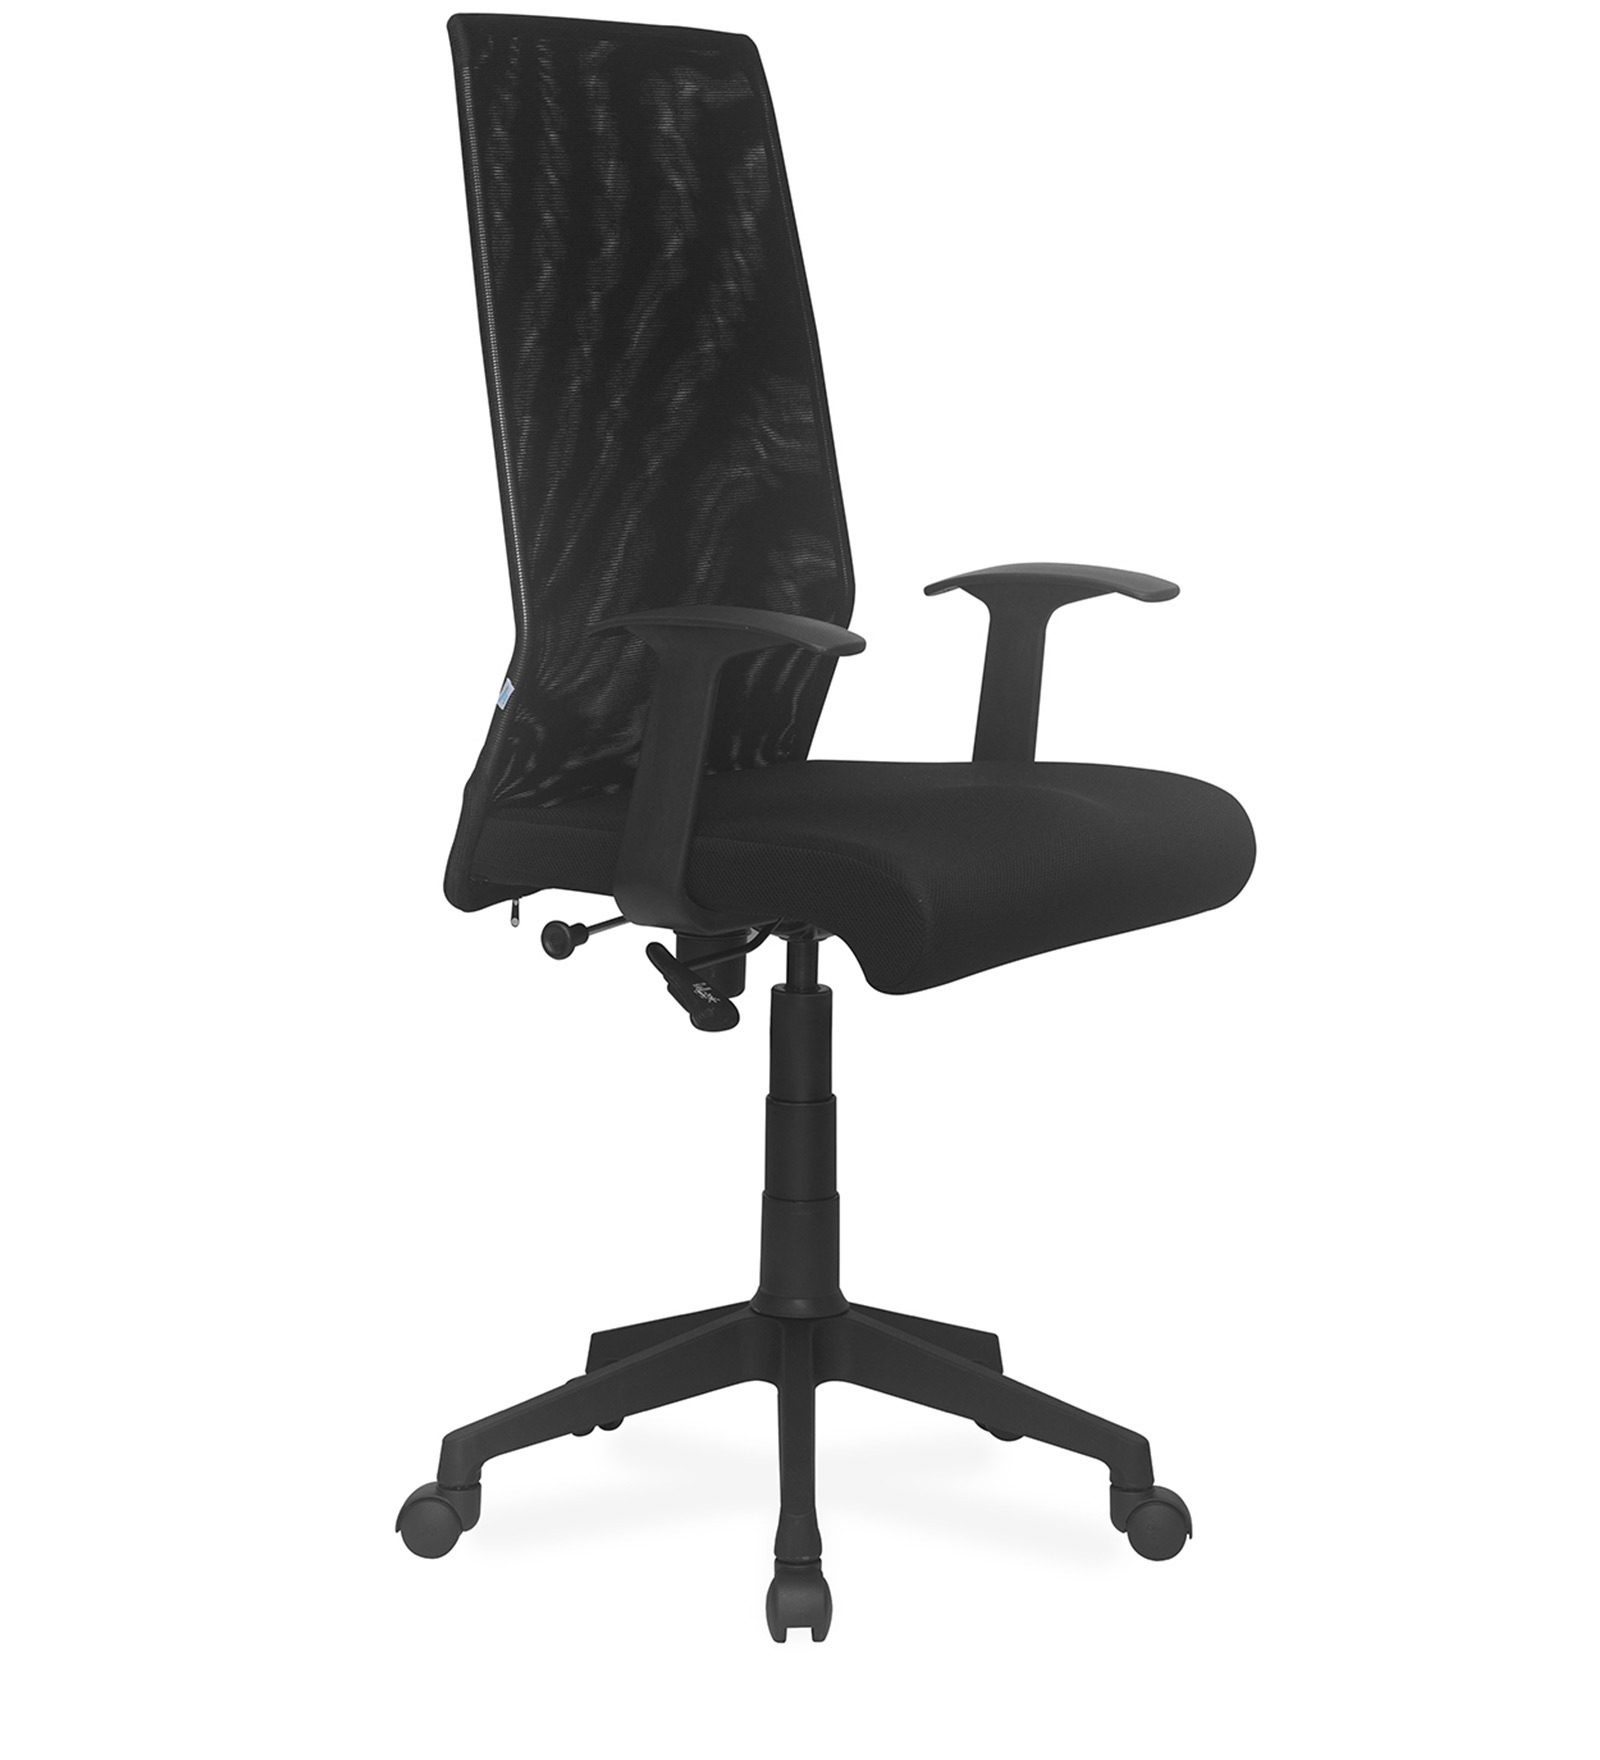Teak Wood Rocking Chair in Walnut Finish by Furniease: (330, 11, 1369, 1665)
